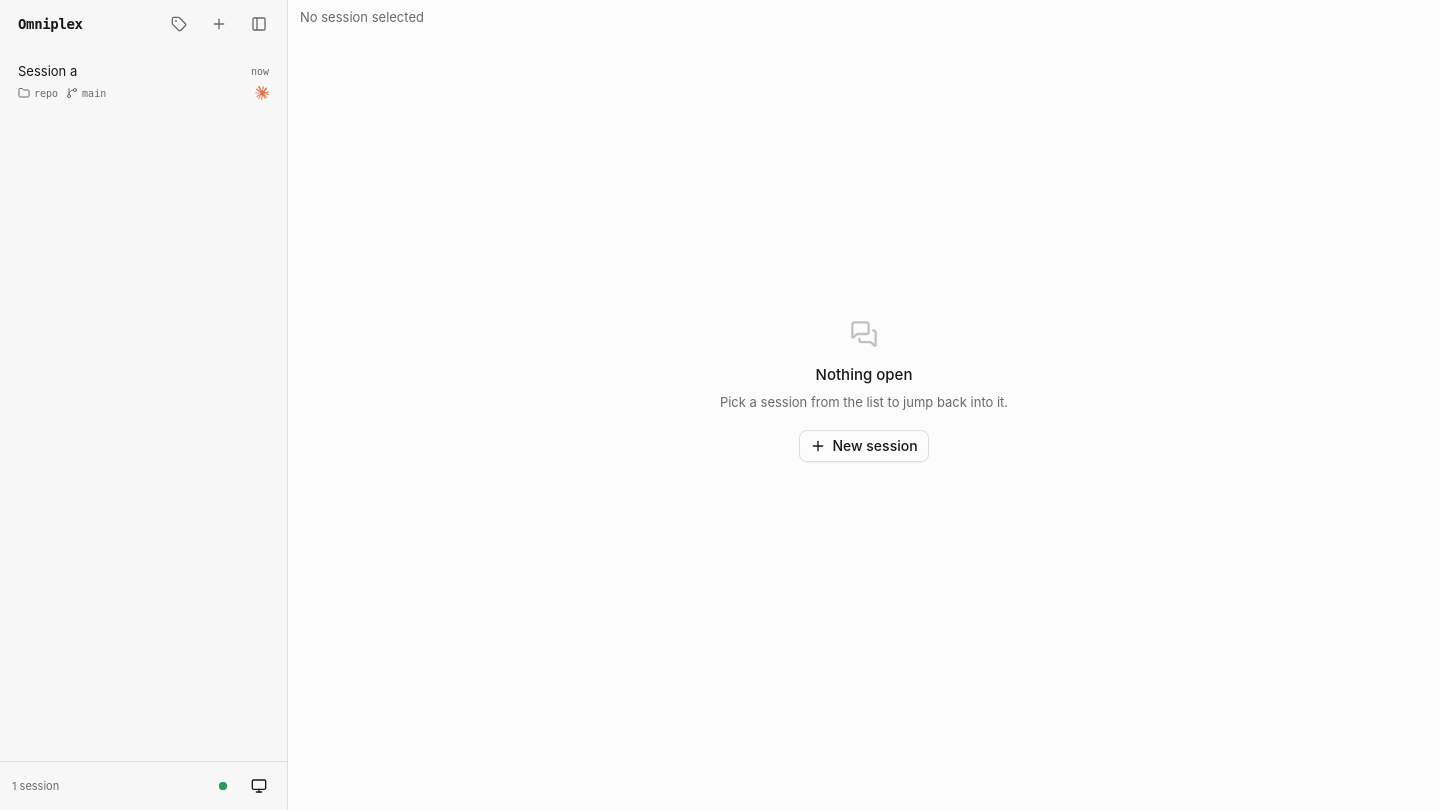
Test case: recent skills on an empty transcript › writes the token and a space into the composer, without sending
Step 1. Click the text "Session a" → (48, 71), box [18,63,77,79]
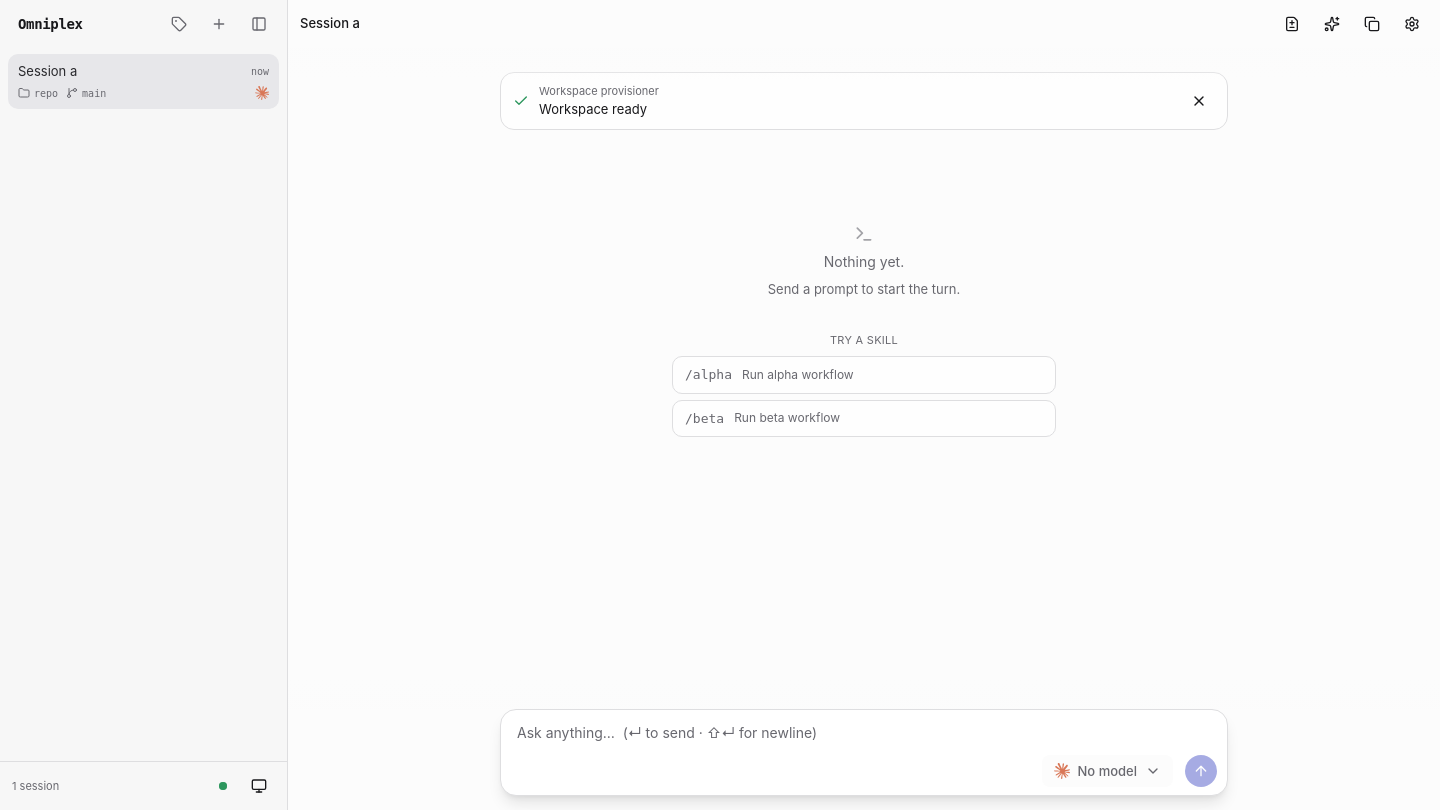
Step 2. Click the text "/beta" → (705, 418), box [685,408,724,428]
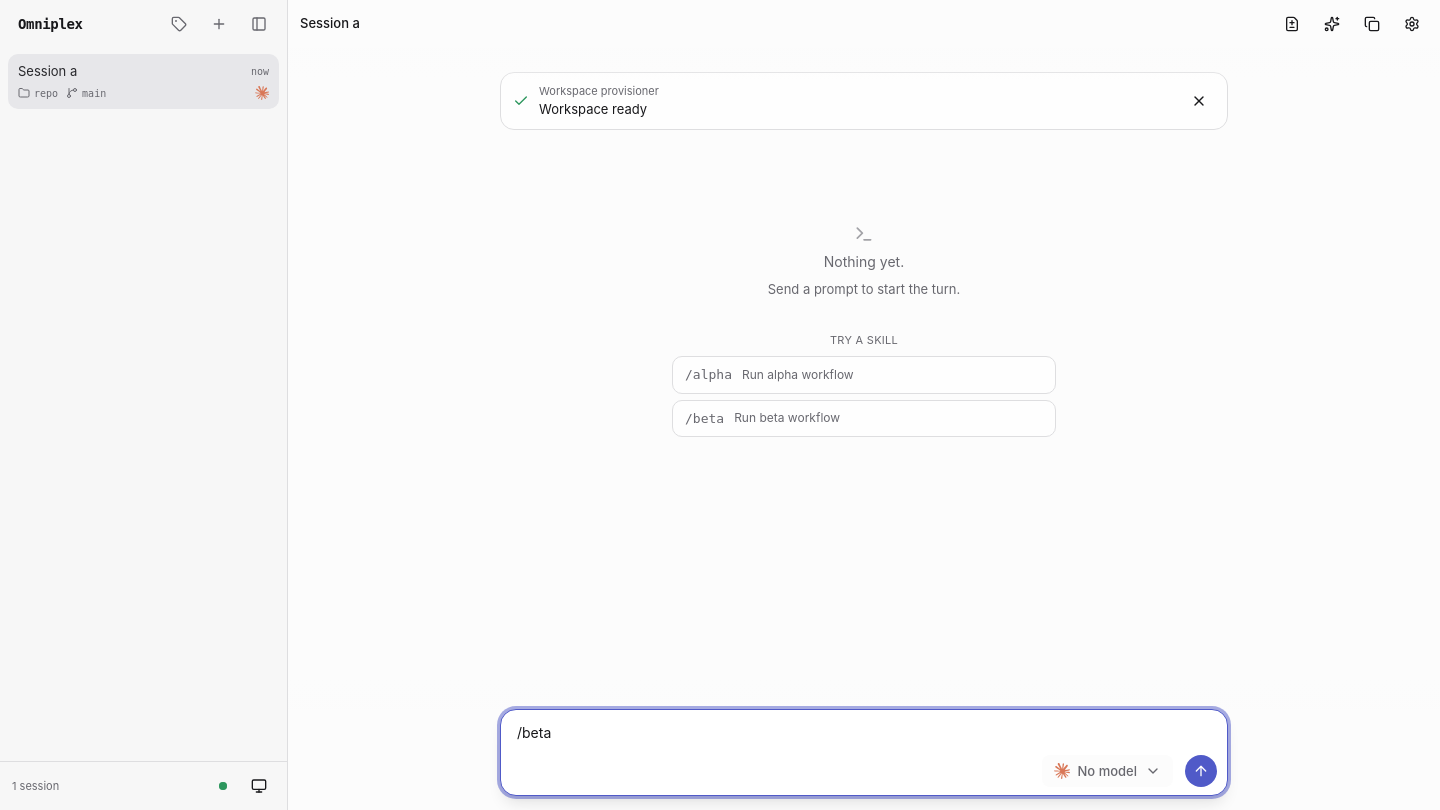
Now the text box named "Message" holds "/beta ", box [501,710,1227,749]
